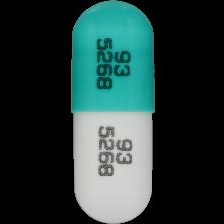66336-056: (0, 0, 224, 224)
